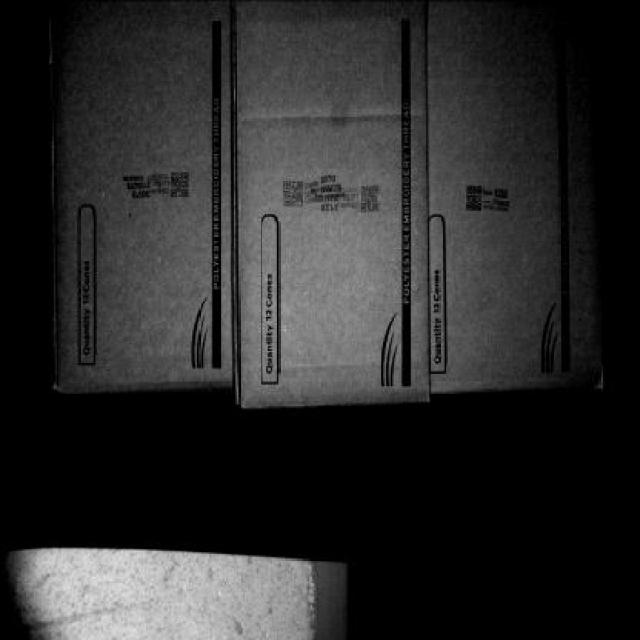cardboxes: (236, 0, 433, 402), (49, 0, 237, 385), (433, 6, 609, 394)
